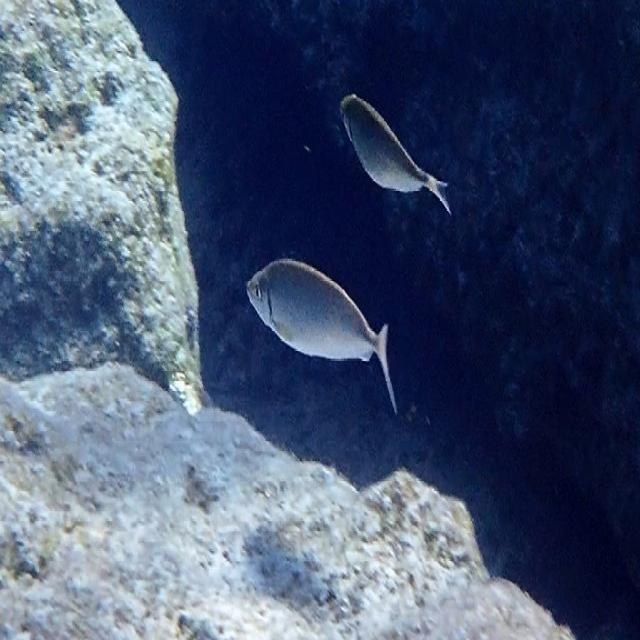Sokar Baligi: (225, 235, 403, 422), (326, 70, 464, 246)
